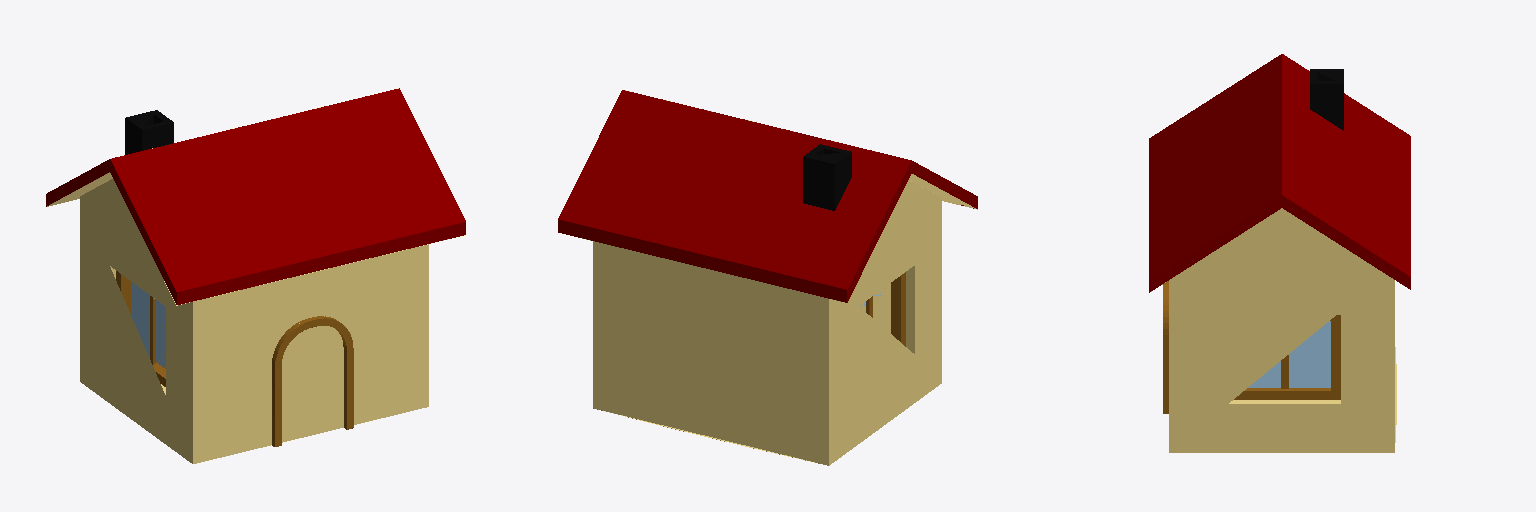
3 renders of one model, left to right at view 1: azimuth 30°, elevation 25°; view 2: azimuth 150°, elevation 25°; view 3: azimuth 270°, elevation 25°, orthographic.
Parts seen in each view (by area): view 1: Plane.002; view 2: Plane.002; view 3: Plane.002.
Part boxes in pixels (left/top/right/bottom): Plane.002: left=46, top=88, right=465, bottom=463; Plane.002: left=558, top=90, right=977, bottom=465; Plane.002: left=1149, top=54, right=1410, bottom=452.
Size of the model in its own units: 5.17 by 4.74 by 4.05.
7 materials, 5 textured.